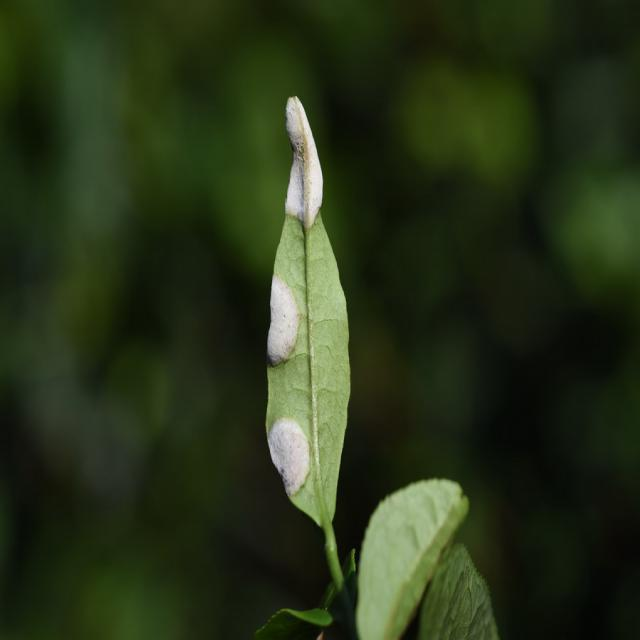Tea cake: (272, 74, 329, 222), (260, 406, 316, 498), (258, 271, 313, 354)
